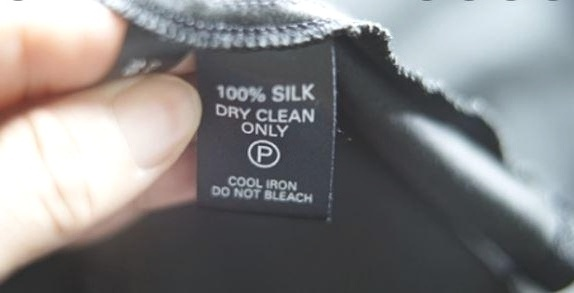dry_clean_any_solvent_except_trichloroethylene: (248, 138, 282, 168)
